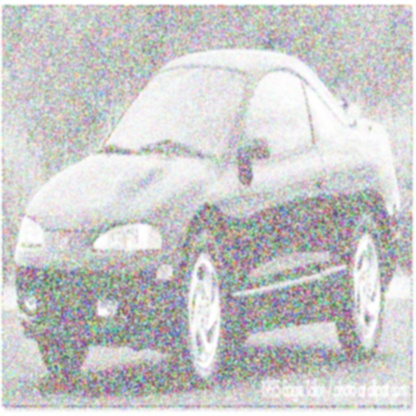Vehicle: (14, 48, 404, 398)
